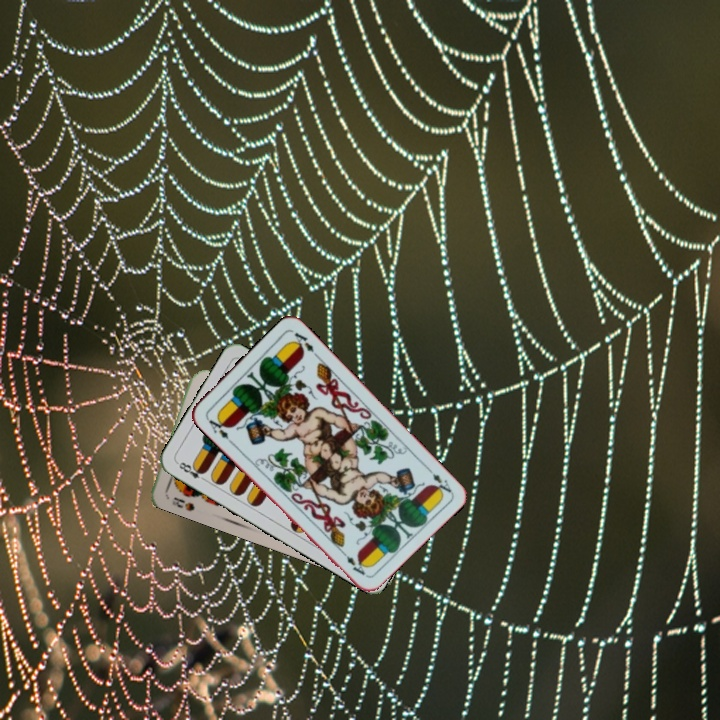E8: (173, 458, 210, 484)
EA: (422, 462, 454, 498), (202, 412, 231, 442)
S8: (168, 493, 197, 514)
